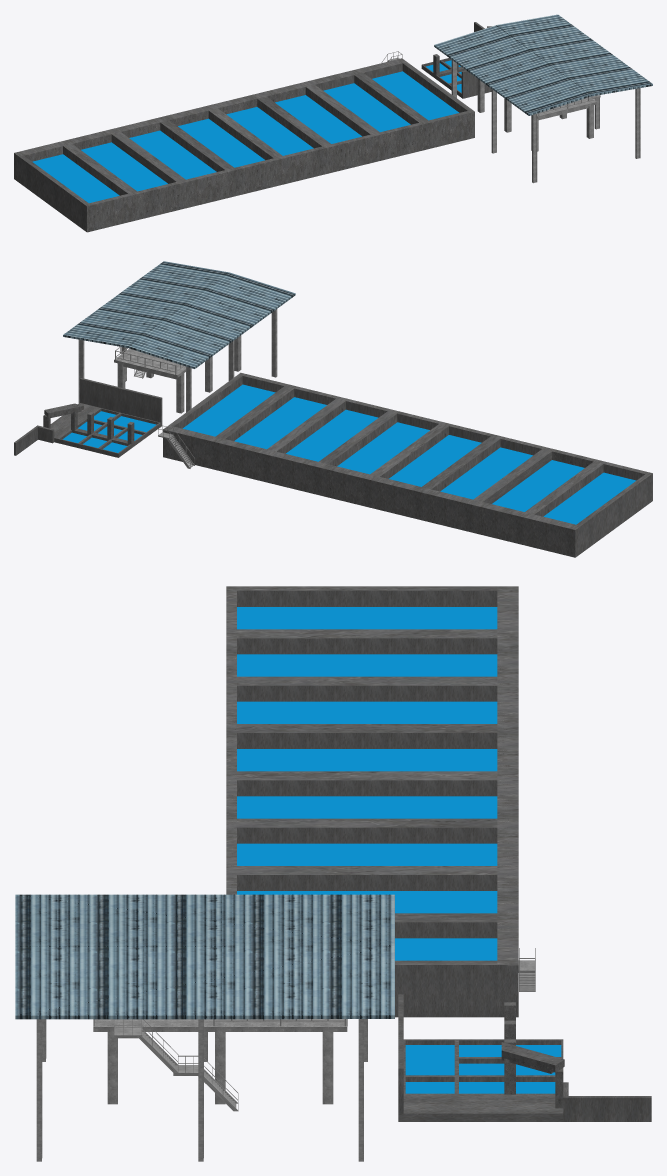
Rendered from changfang11.gltf.
The picture shows the model from 3 angles, top to bottom: view 1: azimuth 30°, elevation 25°; view 2: azimuth 150°, elevation 25°; view 3: azimuth 270°, elevation 25°; orthographic projection. The views are drawn at different scales.
Visible parts, largest first — view 1: gongchang11_61, gongchang11_52, gongchang11_48, gongchang11_90, gongchang11_36, gongchang11_43, gongchang11_38, gongchang11_50; view 2: gongchang11_61, gongchang11_52, gongchang11_48, gongchang11_90, gongchang11_36, gongchang11_38; view 3: gongchang11_61, gongchang11_48, gongchang11_52, gongchang11_90, gongchang11_36, gongchang11_11, gongchang11_43, gongchang11_4, gongchang11_47, gongchang11_39.
Boxes of the visible parts, bbox=[...] form: gongchang11_61: bbox=[14, 58, 474, 232]; gongchang11_52: bbox=[434, 25, 590, 115]; gongchang11_48: bbox=[496, 14, 652, 96]; gongchang11_90: bbox=[421, 22, 491, 98]; gongchang11_36: bbox=[537, 97, 597, 118]; gongchang11_43: bbox=[635, 88, 640, 158]; gongchang11_38: bbox=[532, 113, 537, 183]; gongchang11_50: bbox=[491, 89, 496, 153]; gongchang11_61: bbox=[163, 372, 652, 557]; gongchang11_52: bbox=[129, 272, 295, 368]; gongchang11_48: bbox=[63, 261, 229, 347]; gongchang11_90: bbox=[14, 378, 162, 457]; gongchang11_36: bbox=[114, 348, 185, 377]; gongchang11_38: bbox=[271, 309, 277, 377]; gongchang11_61: bbox=[226, 586, 518, 1017]; gongchang11_48: bbox=[15, 946, 394, 1019]; gongchang11_52: bbox=[15, 894, 394, 946]; gongchang11_90: bbox=[398, 994, 651, 1121]; gongchang11_36: bbox=[93, 1019, 347, 1031]; gongchang11_11: bbox=[501, 1042, 564, 1073]; gongchang11_43: bbox=[36, 1019, 42, 1161]; gongchang11_4: bbox=[322, 1032, 333, 1104]; gongchang11_47: bbox=[198, 1019, 203, 1161]; gongchang11_39: bbox=[358, 1019, 363, 1161].
Bounding box in the file's own units: 668 × 101 × 359.
4 materials, 3 textured.
